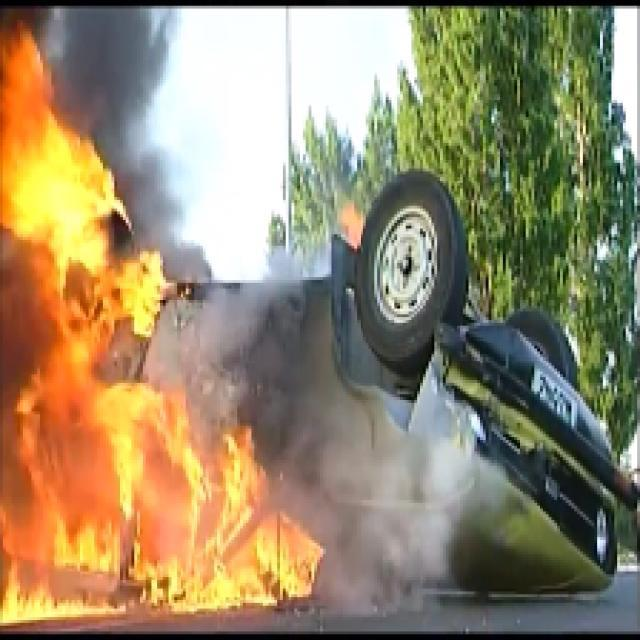Fire: (3, 26, 323, 628)
Smoke: (321, 417, 428, 594), (66, 17, 152, 123)
